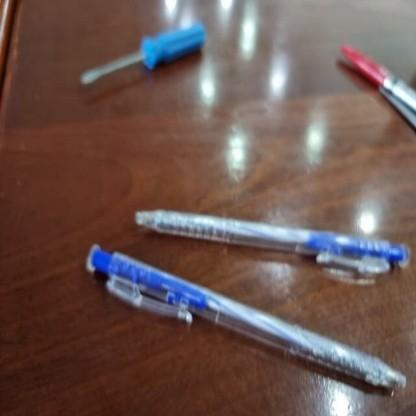not trash: (86, 246, 406, 392), (136, 210, 410, 276), (83, 24, 208, 87), (340, 43, 416, 109)
